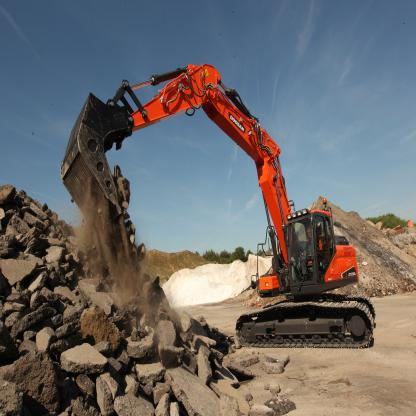excavator: (65, 50, 387, 368)
